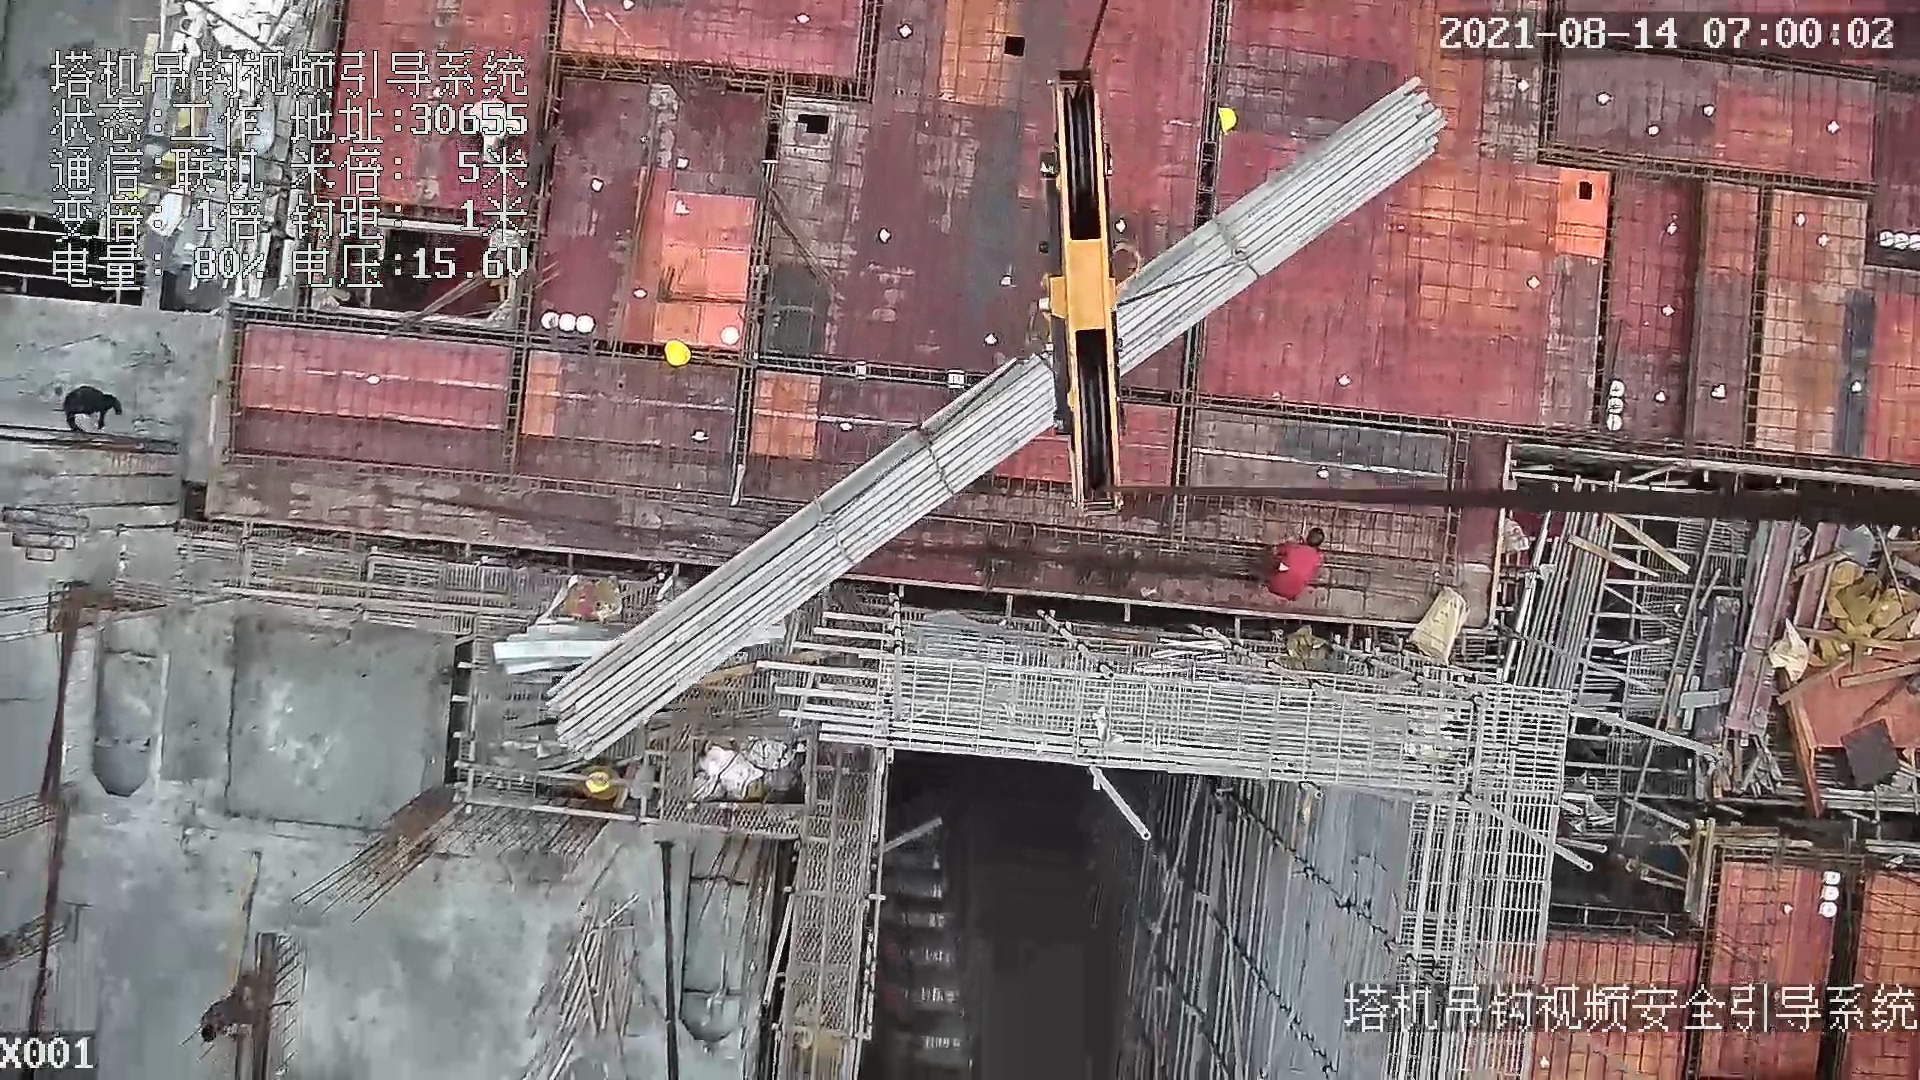helmet: (664, 339, 692, 368), (1216, 106, 1237, 135)
hook: (1032, 63, 1137, 521)
person: (1265, 521, 1331, 599), (62, 385, 124, 432)
rebar: (546, 79, 1450, 758)
